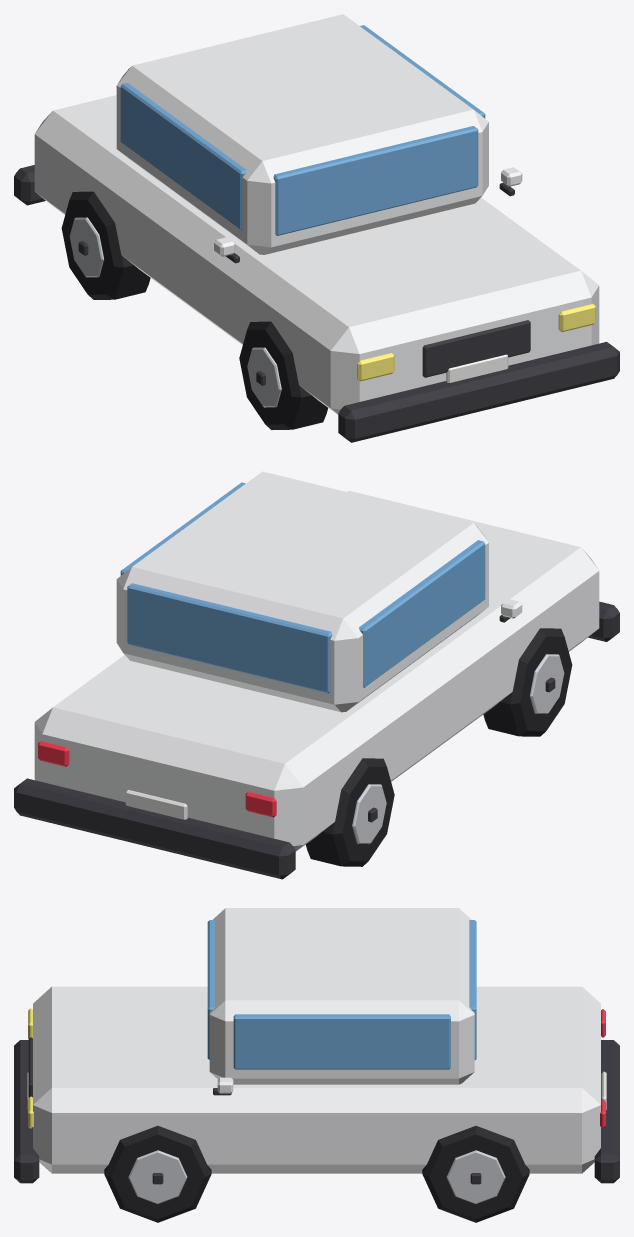
Rendered from WhiteCar.fbx.
The picture shows the model from 3 angles, top to bottom: view 1: azimuth 30°, elevation 25°; view 2: azimuth 150°, elevation 25°; view 3: azimuth 270°, elevation 25°; orthographic projection. The views are drawn at different scales.
Visible parts, largest first — view 1: WhiteCar, WhiteCar_WheelBR, WhiteCar_WheelFR; view 2: WhiteCar, WhiteCar_WheelBR, WhiteCar_WheelFR; view 3: WhiteCar, WhiteCar_WheelBL, WhiteCar_WheelFL.
Part boxes in pixels (x1=…): WhiteCar: x1=14, y1=14, x2=619, y2=442; WhiteCar_WheelBR: x1=61, y1=191, x2=150, y2=299; WhiteCar_WheelFR: x1=239, y1=321, x2=327, y2=429; WhiteCar: x1=14, y1=471, x2=619, y2=879; WhiteCar_WheelBR: x1=305, y1=758, x2=394, y2=866; WhiteCar_WheelFR: x1=483, y1=628, x2=572, y2=736; WhiteCar: x1=14, y1=908, x2=619, y2=1183; WhiteCar_WheelBL: x1=422, y1=1125, x2=529, y2=1222; WhiteCar_WheelFL: x1=104, y1=1125, x2=211, y2=1222.
Size of the model in its own units: 4.95 by 3.67 by 9.6.
1 material, 1 textured.
